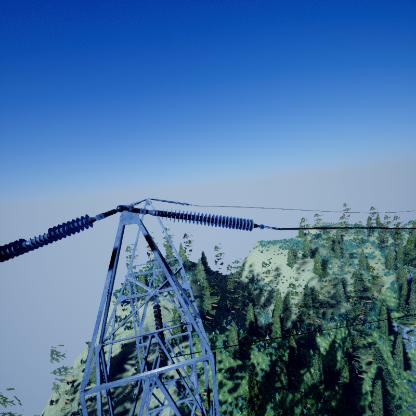insulator: (1, 213, 97, 266), (149, 206, 255, 232)
